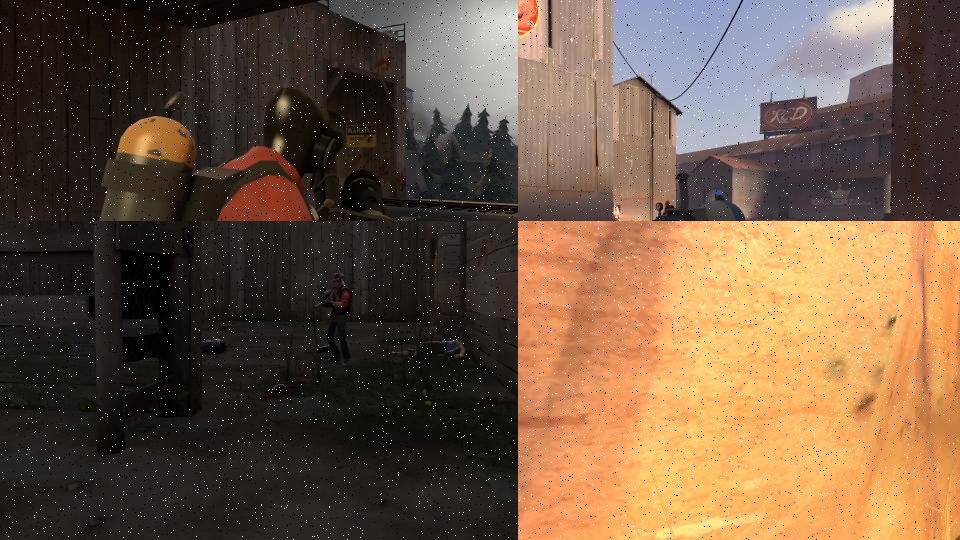Enemy: (70, 75, 419, 221), (315, 270, 357, 367), (388, 335, 467, 362), (611, 200, 626, 221)
